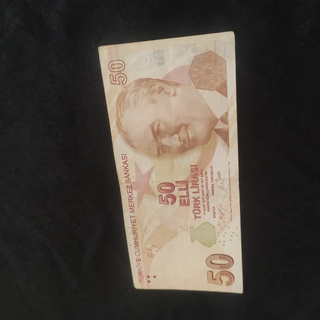50TLFront: (97, 31, 244, 294)
